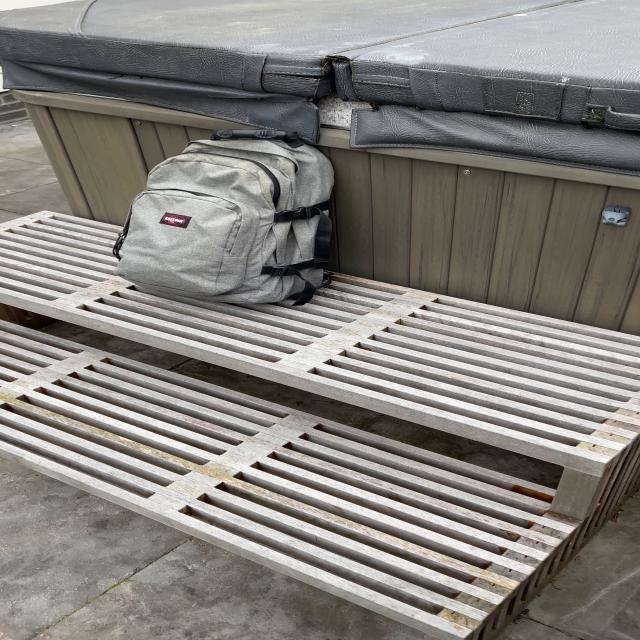backpack: (103, 126, 348, 306)
